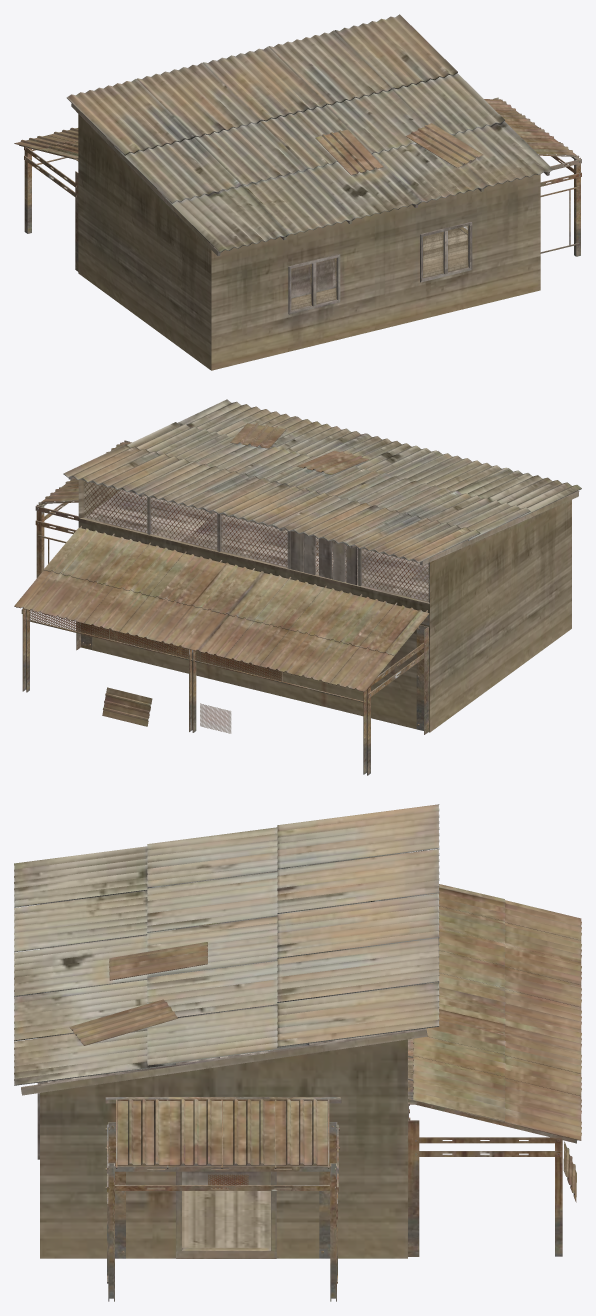
File: house_e.glb
The picture shows the model from 3 angles, top to bottom: view 1: azimuth 30°, elevation 25°; view 2: azimuth 150°, elevation 25°; view 3: azimuth 270°, elevation 25°; orthographic projection. The views are drawn at different scales.
Visible parts, largest first — view 1: prefab; view 2: prefab; view 3: prefab.
Boxes of the visible parts, bbox=[...] form: prefab: bbox=[14, 14, 581, 370]; prefab: bbox=[14, 399, 581, 775]; prefab: bbox=[14, 804, 581, 1301].
Size of the model in its own units: 24.12 by 9.87 by 21.6.
6 materials, 6 textured.
